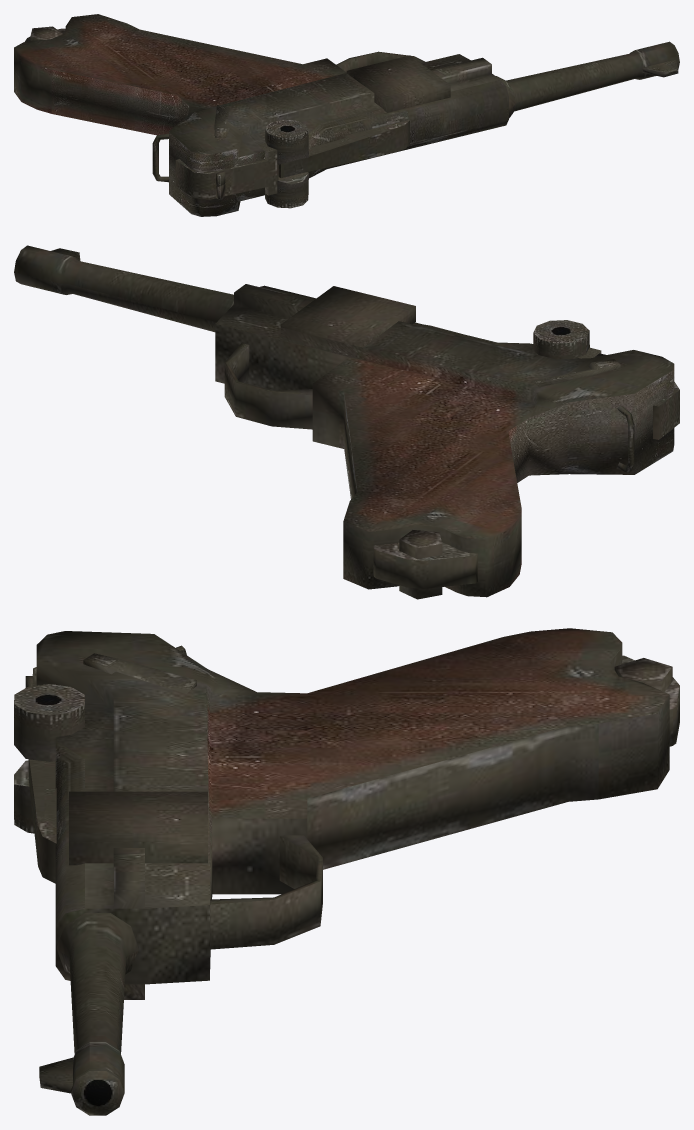
File: weapon_luger.glb
3 views of the same model, one above another, from view 1: azimuth 30°, elevation 25°; view 2: azimuth 150°, elevation 25°; view 3: azimuth 270°, elevation 25° (orthographic). The views are drawn at different scales.
Size of the model in its own units: 9.46 by 1.24 by 6.24.
1 material, 1 textured.
